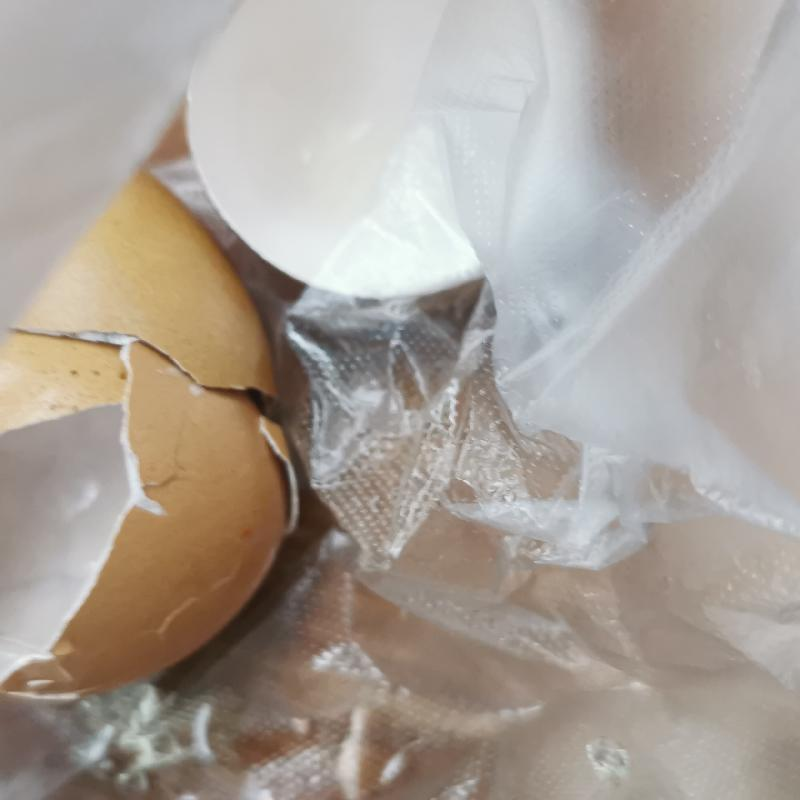eggshell: (0, 191, 306, 705)
